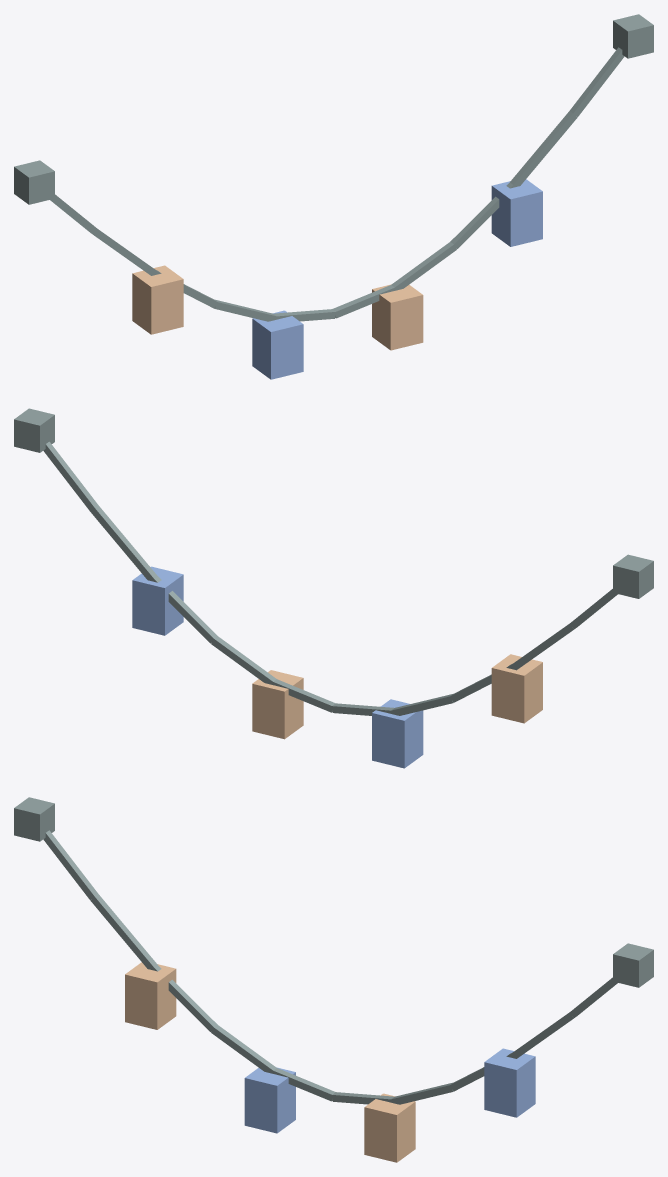
Rendered from stringLights.glb.
3 renders of one model, top to bottom at view 1: azimuth 30°, elevation 25°; view 2: azimuth 150°, elevation 25°; view 3: azimuth 330°, elevation 25°, orthographic.
Parts seen in each view (by area): view 1: stringLights; view 2: stringLights; view 3: stringLights.
Part boxes in pixels (x1,y1,x2,y2): stringLights: (14, 14, 653, 379); stringLights: (14, 408, 653, 768); stringLights: (14, 797, 653, 1162).
Size of the model in its own units: 0.48 by 0.1877 by 0.0275.
